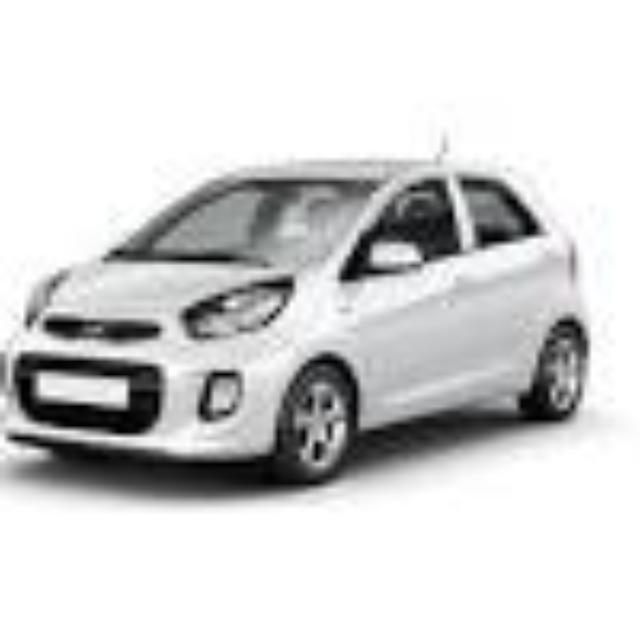kia: (0, 158, 588, 484)
